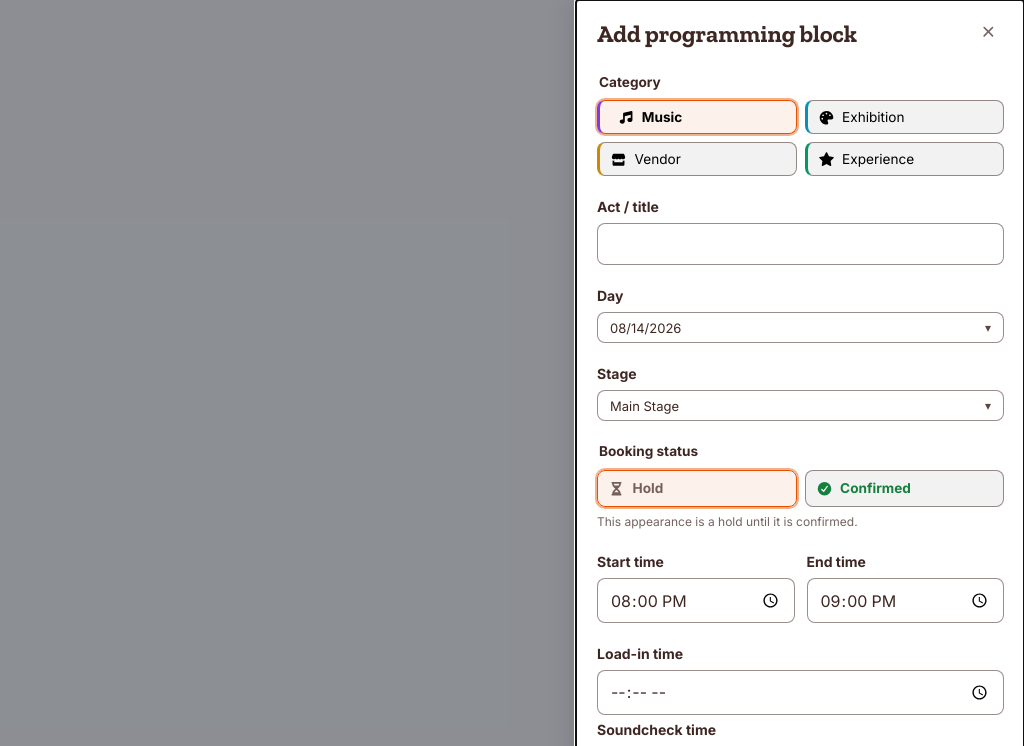
Test: BlockEditorDrawer › shows description-first layout for non-music categories with deal math hidden by default
The image size is (1024, 746).
Click the button "Exhibition" at (904, 117), box [804,100,1004,134]
(page scrolled)
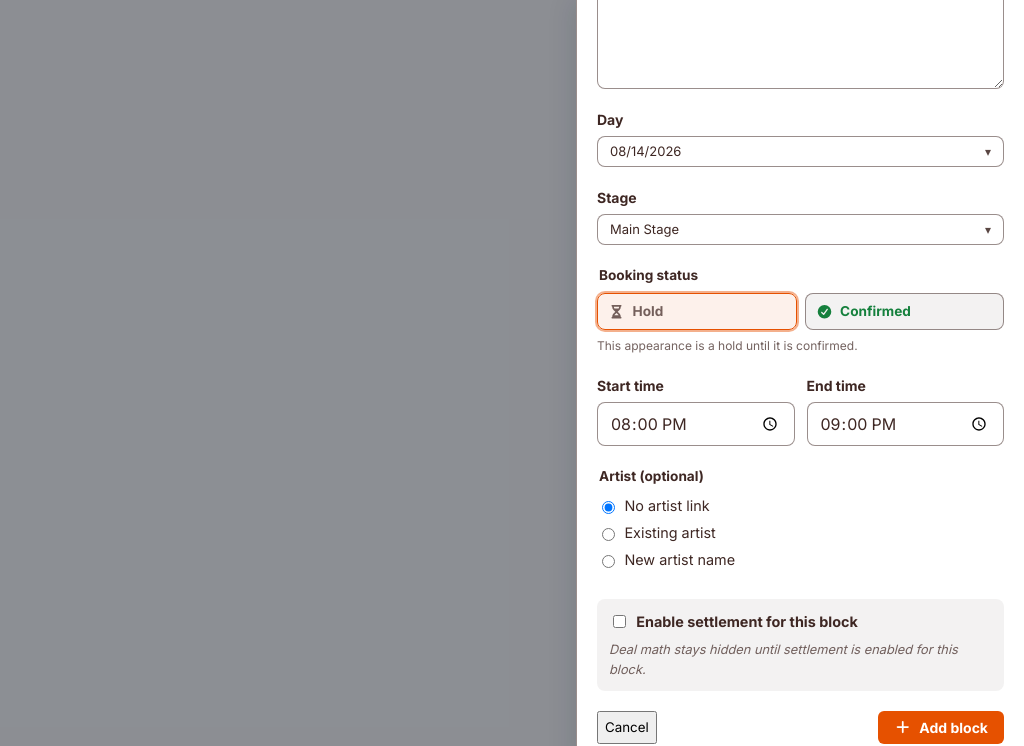
Expected: the text box with test id "block-description" is shown, [597,0,1004,89]
Expected: the checkbox with test id "block-requires-settlement" is not checked, [613,615,626,628]
Expected: the text with test id "block-deal-hidden" shows "hidden until settlement is enabled", [609,642,958,677]
